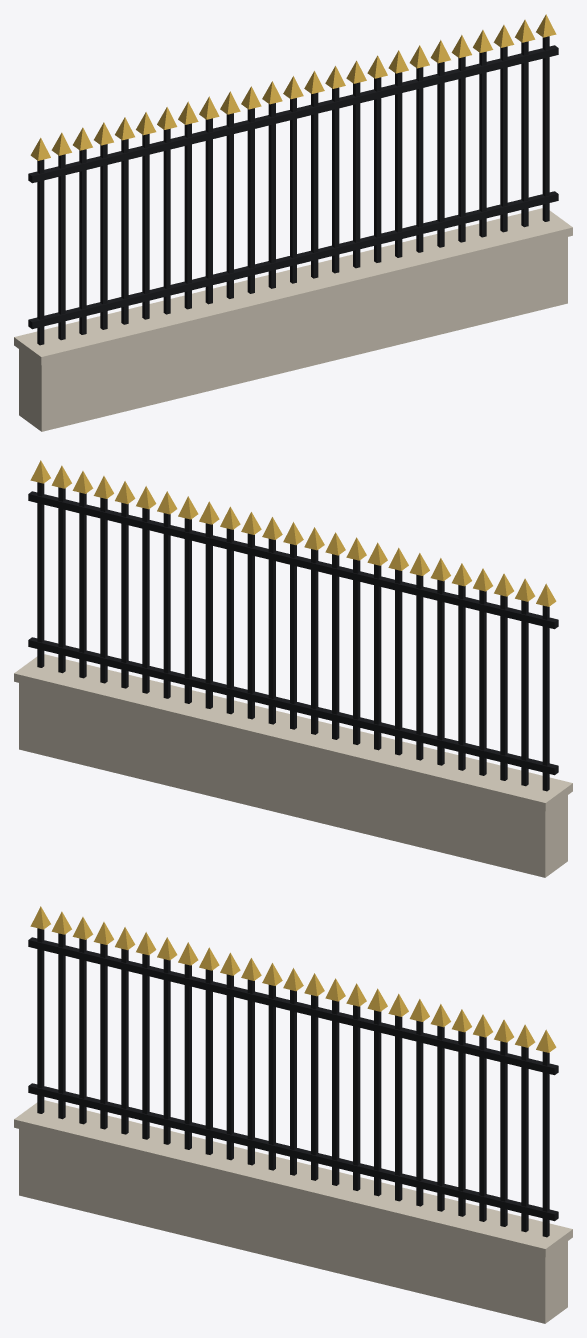
The model's file is railing_stone.glb.
3 views of the same model, one above another, from view 1: azimuth 30°, elevation 25°; view 2: azimuth 150°, elevation 25°; view 3: azimuth 330°, elevation 25° (orthographic).
Visible parts, largest first — view 1: railing_stone; view 2: railing_stone; view 3: railing_stone.
Boxes of the visible parts, left/top/right/bottom form: railing_stone: left=14, top=14, right=572, bottom=431; railing_stone: left=14, top=460, right=572, bottom=877; railing_stone: left=14, top=906, right=572, bottom=1323.
Size of the model in its own units: 4.04 by 2.06 by 0.36.
